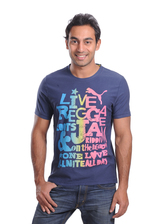clothoes: (32, 62, 135, 187)
